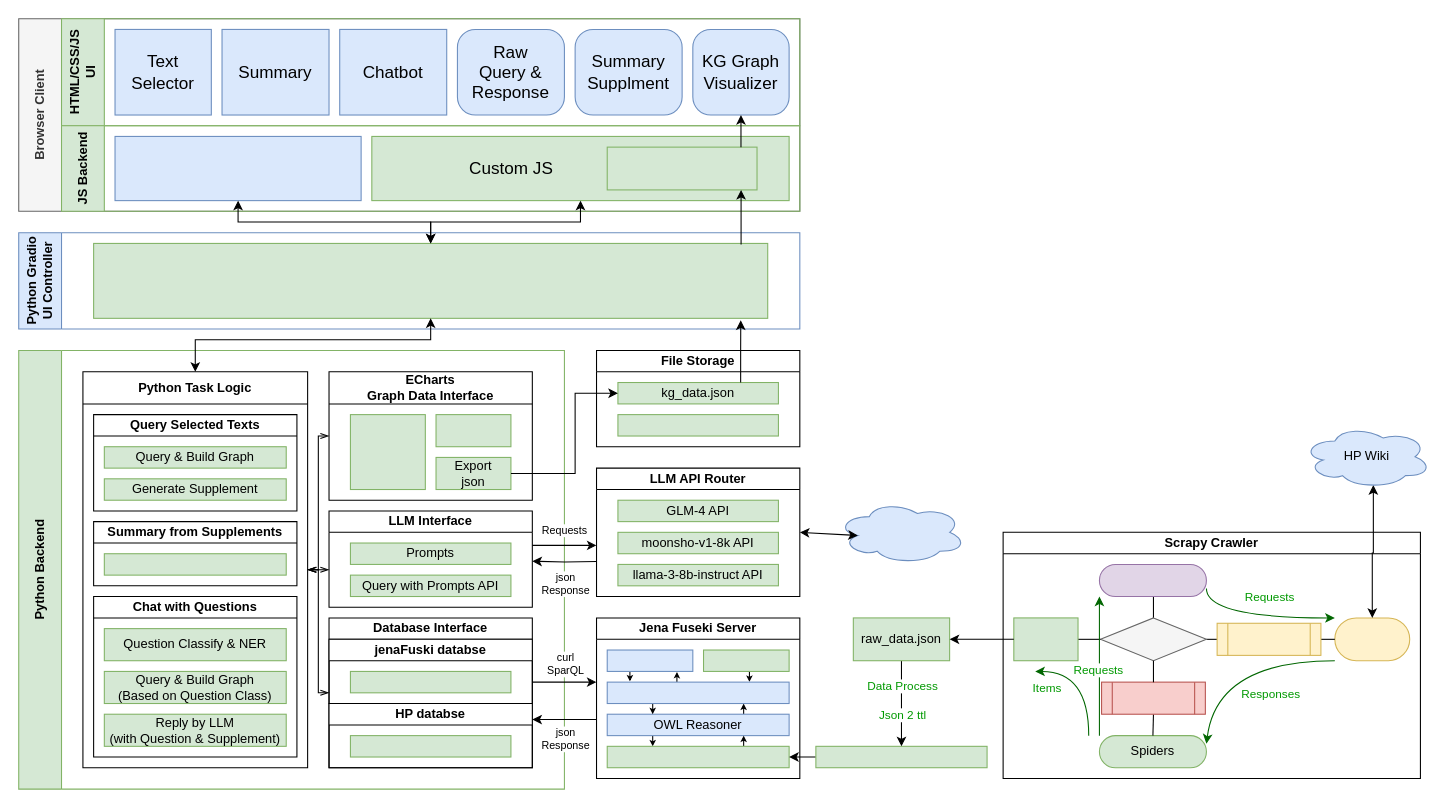
This 1450x808 diagram has some shape labels left out. The centre of each missing label's shape, as x and y in pixels:
"Add/Update Node&Edge" goes at point 387,452.
"Custom UI Layout & Components with Custom Python/JS Events Handlers" goes at point 430,280.
"data.ttl" goes at point 901,756.
"Downloader" goes at point 1372,639.
"Downloader Middlewares" goes at point 1268,638.
"excerpt.txt" goes at point 697,425.
"Fuseki" goes at point 649,660.
"Gradio JS" goes at point 237,168.
"Item Pipeline" goes at point 1045,639.
"KG Graph Visualize Utils" goes at point 681,168.
"LLMs" goes at point 901,532.
"Ontology" goes at point 745,660.
"query templates" goes at point 430,746.
"query_with_prefix" goes at point 430,681.
"RDF/Ontology/SparQL API" goes at point 697,692.
"Scheduler" goes at point 1152,580.
"Scrapy Engine" goes at point 1152,639.
"Spider Middlewares" goes at point 1152,697.
"Summary by LLM" goes at point 194,564.
"Summary Supplement" goes at point 473,430.
"TDB" goes at point 697,756.
